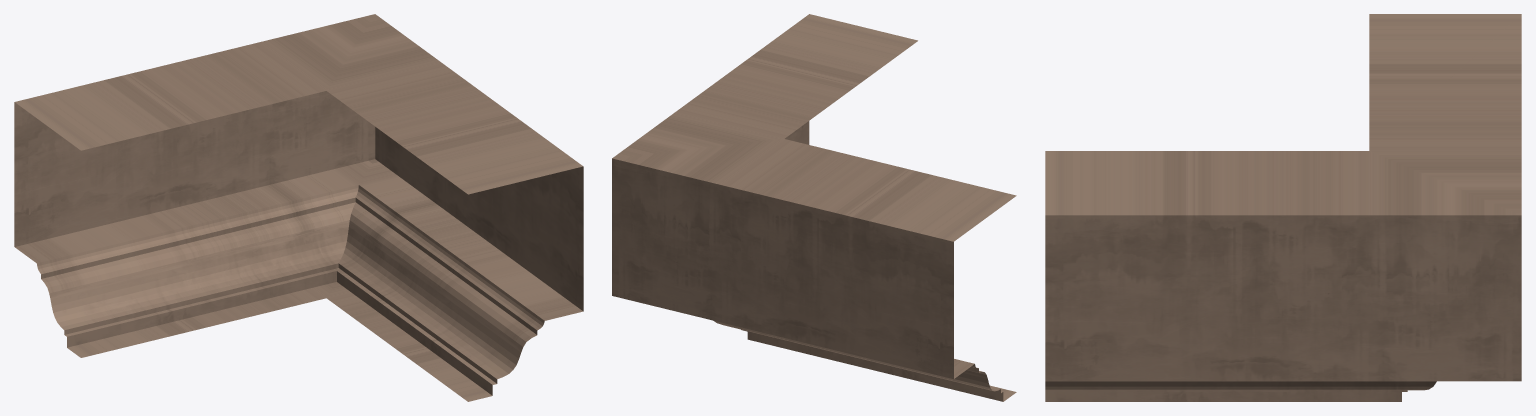
File: Corner_Crown_A.fbx
The picture shows the model from 3 angles, left to right: view 1: azimuth 30°, elevation 25°; view 2: azimuth 150°, elevation 25°; view 3: azimuth 270°, elevation 25°; orthographic projection. The views are drawn at different scales.
Visible parts, largest first — view 1: Corner_Crown_A; view 2: Corner_Crown_A; view 3: Corner_Crown_A.
Boxes of the visible parts, x1,y1,x2,y2 form: Corner_Crown_A: [14, 14, 583, 401]; Corner_Crown_A: [612, 14, 1016, 401]; Corner_Crown_A: [1045, 14, 1521, 401].
Bounding box in the file's own units: 0.7281 × 0.7281 × 0.4.
